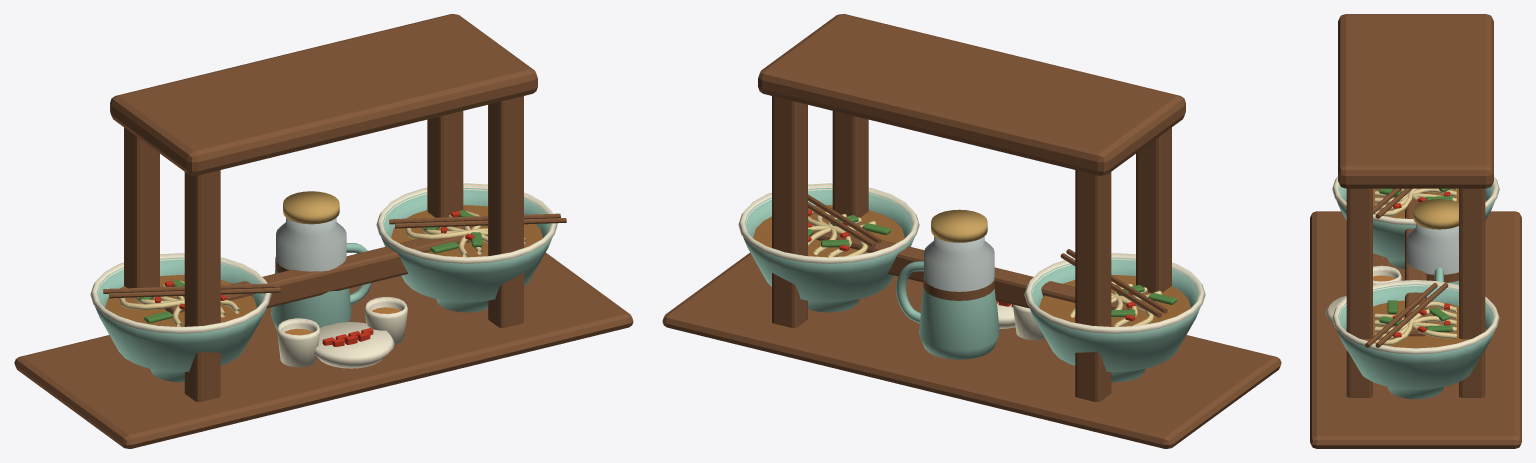
Rendered from evening-service.glb.
3 renders of one model, left to right at view 1: azimuth 30°, elevation 25°; view 2: azimuth 150°, elevation 25°; view 3: azimuth 270°, elevation 25°, orthographic. The views are drawn at different scales.
Visible parts, largest first — view 1: ParkTableMesh, MealBaseMesh, TeaSetMesh, MealContentsMesh, ChilliAsideMesh, WaterSetMesh; view 2: ParkTableMesh, MealBaseMesh, TeaSetMesh, MealContentsMesh, WaterSetMesh; view 3: ParkTableMesh, MealBaseMesh, MealContentsMesh, TeaSetMesh, ChilliAddedMesh.
Part boxes in pixels (left/top/right/bottom): ParkTableMesh: left=110, top=14, right=537, bottom=402; MealBaseMesh: left=14, top=183, right=633, bottom=448; TeaSetMesh: left=275, top=191, right=407, bottom=367; MealContentsMesh: left=105, top=205, right=542, bottom=326; ChilliAsideMesh: left=314, top=322, right=394, bottom=368; WaterSetMesh: left=271, top=243, right=372, bottom=330; ParkTableMesh: left=758, top=14, right=1185, bottom=402; MealBaseMesh: left=662, top=183, right=1281, bottom=448; TeaSetMesh: left=923, top=209, right=1045, bottom=339; MealContentsMesh: left=753, top=205, right=1190, bottom=326; WaterSetMesh: left=896, top=261, right=999, bottom=359; ParkTableMesh: left=1338, top=14, right=1493, bottom=397; MealBaseMesh: left=1310, top=176, right=1521, bottom=448; MealContentsMesh: left=1346, top=188, right=1485, bottom=348; TeaSetMesh: left=1373, top=199, right=1458, bottom=284; ChilliAddedMesh: left=1392, top=188, right=1450, bottom=337.
Size of the model in its own units: 1.75 by 0.8725 by 0.68.
